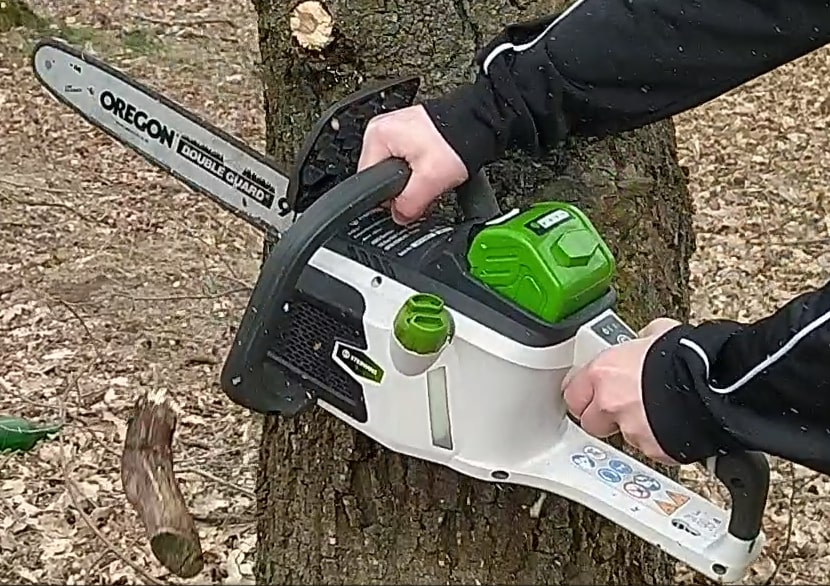chainsaw: (23, 28, 775, 583)
